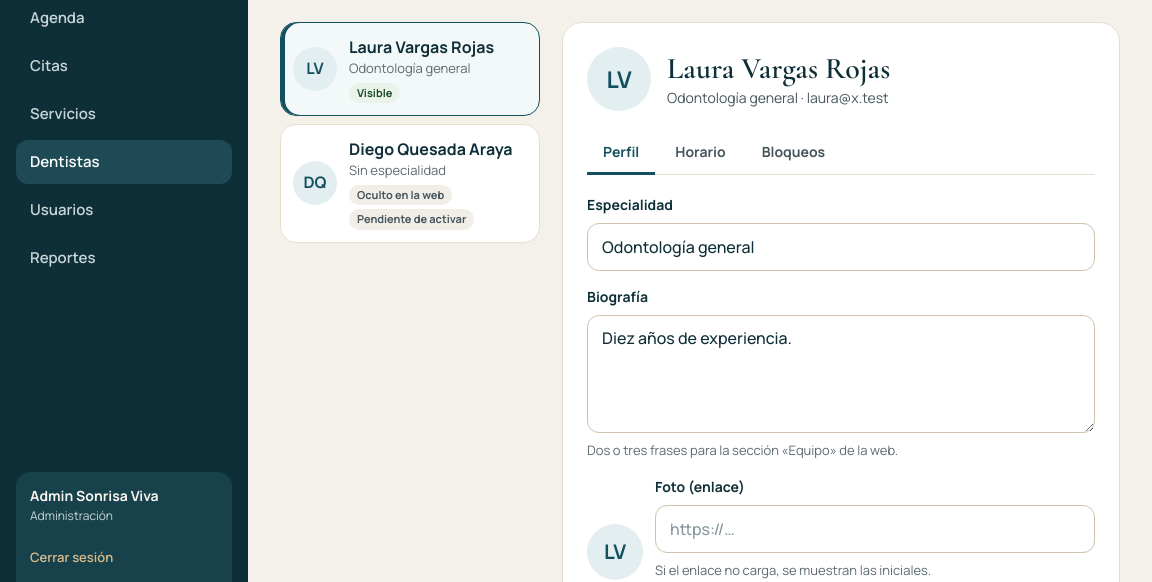
Test: Dentistas › traslape se avisa sin enviar
Step 1. Click the tab "Horario" → (700, 153), box [659,131,742,175]
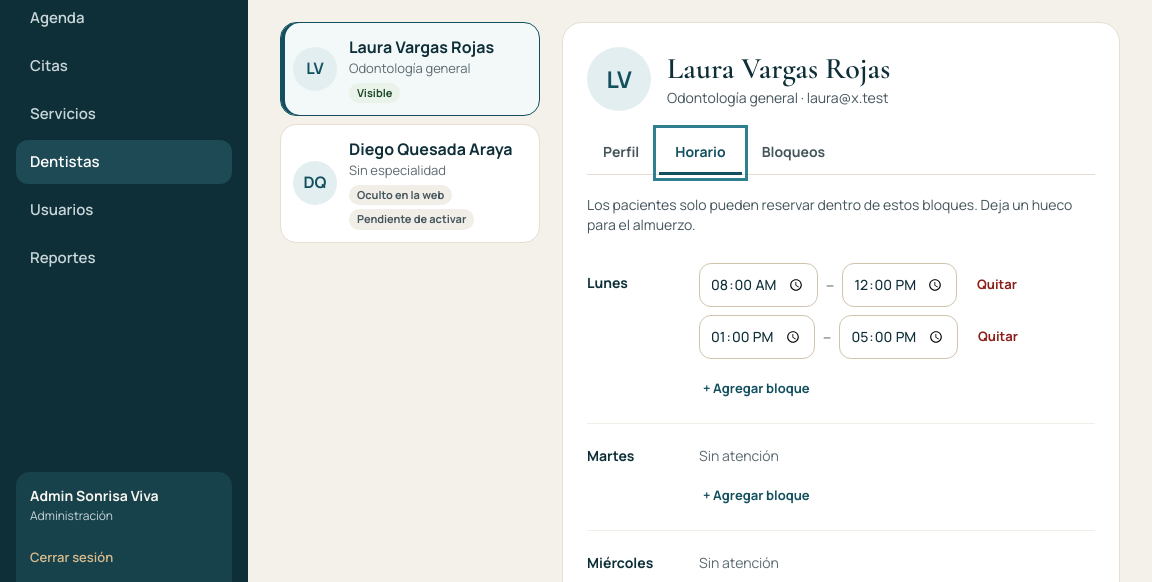
Step 2. Replace the text in the time field named "Lunes, inicio del bloque 2" with "11:00" → (757, 337), box [699,315,815,359]
(page scrolled)
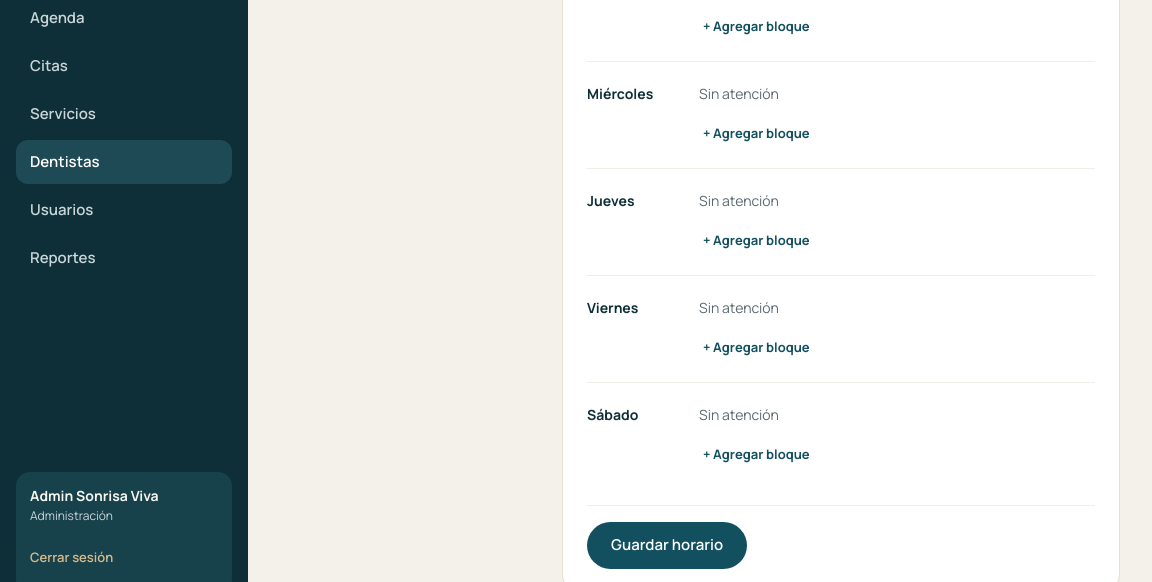
Step 3. Click the button "Guardar horario" → (667, 545), box [587,522,747,568]
(page scrolled)
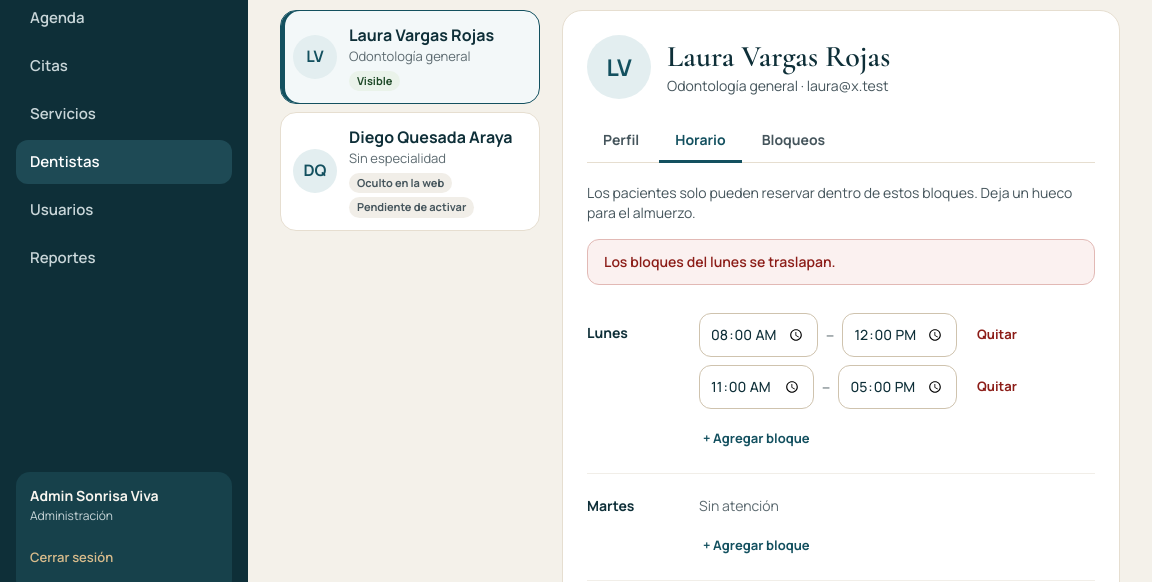
Expected: the message reads "Los bloques del lunes se traslapan.", [604,252,836,271]
